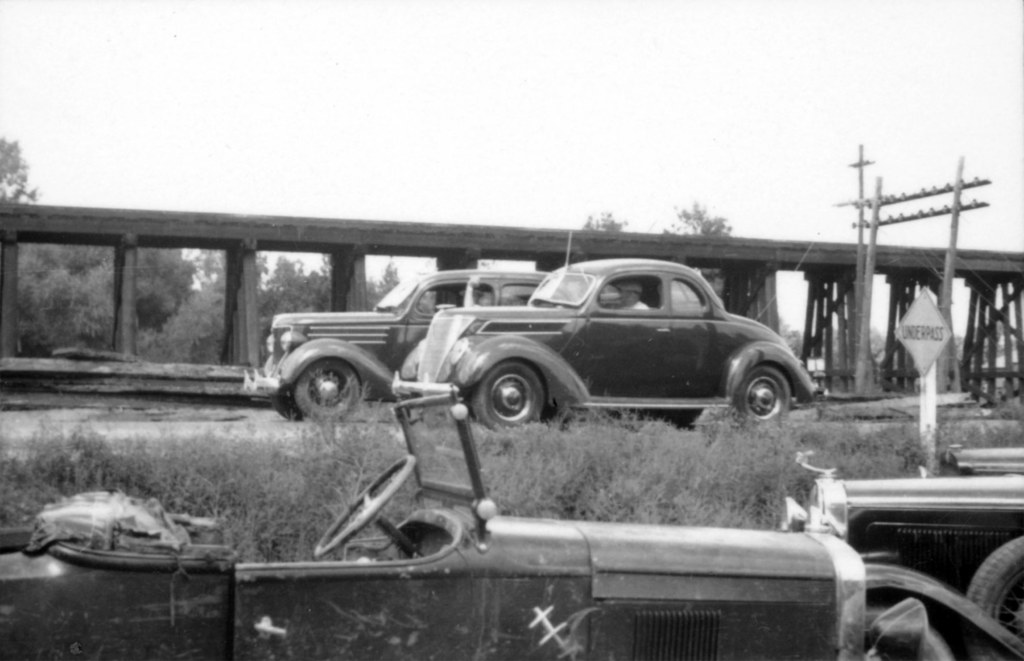Car: (0, 386, 1017, 660), (384, 223, 833, 428), (247, 263, 549, 425), (806, 475, 1023, 646)
